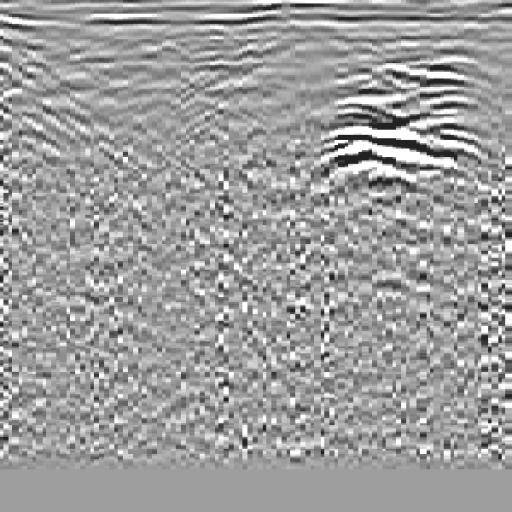metalic: (282, 61, 510, 193)
